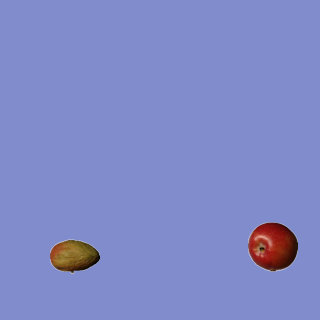Apple Braeburn: (247, 221, 297, 271)
Papaya: (49, 231, 99, 281)
